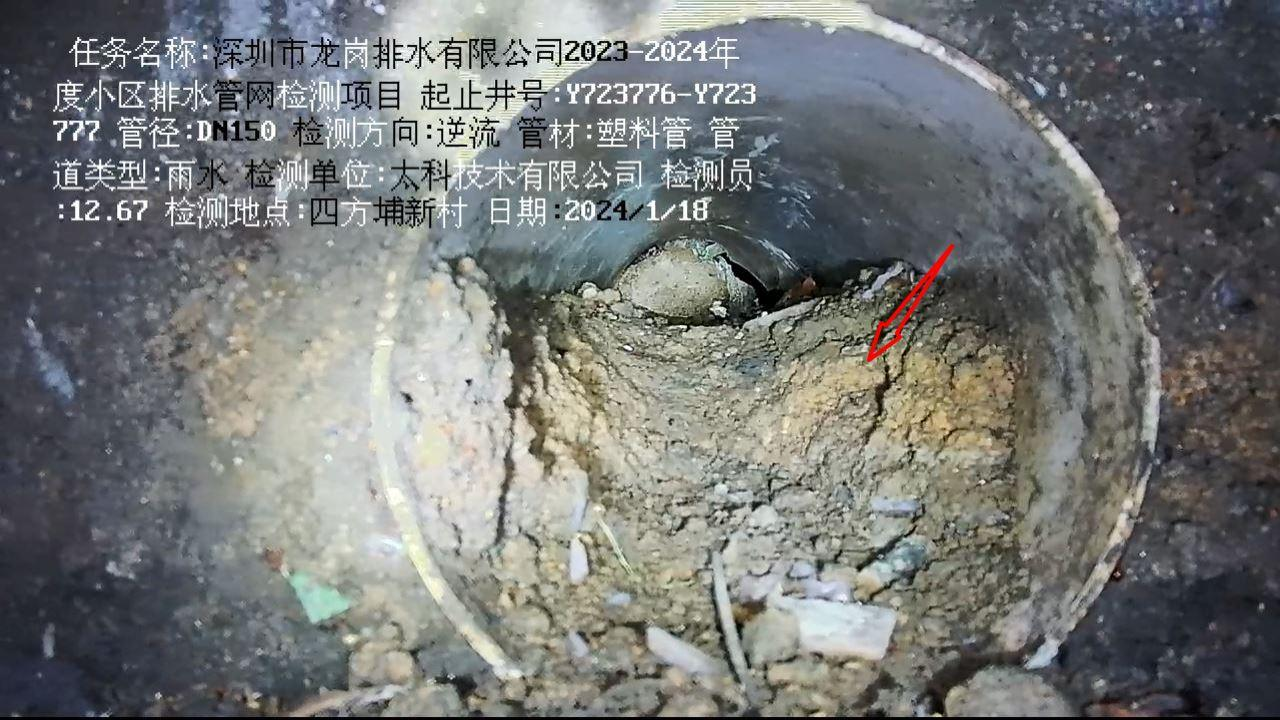CJ: (297, 237, 1073, 716)
